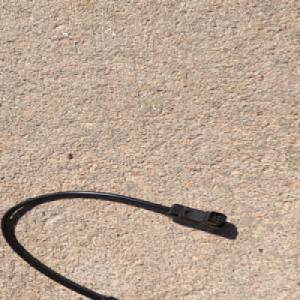Wire: (0, 189, 227, 300)
